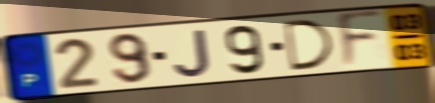2: (55, 36, 105, 92)
9: (107, 30, 154, 87), (224, 23, 266, 75)
D: (281, 18, 338, 73)
F: (335, 8, 386, 73)
J: (172, 28, 214, 79)
